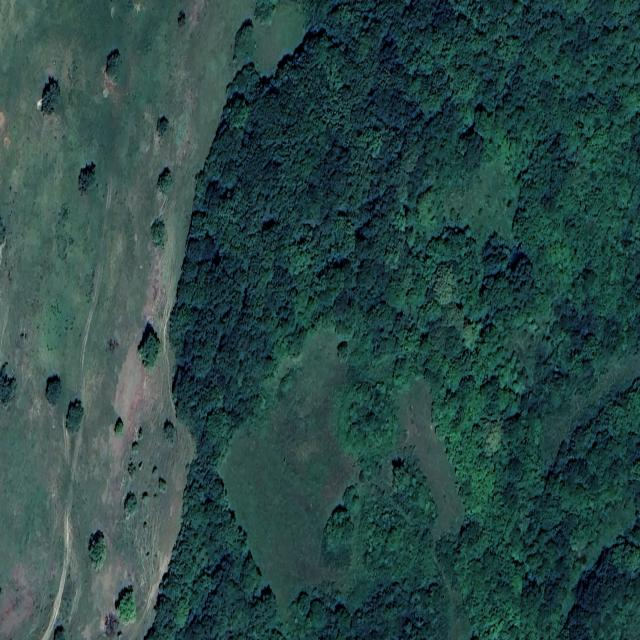grass: (125, 0, 309, 639), (225, 334, 355, 605), (398, 388, 461, 552), (546, 350, 640, 455), (448, 165, 511, 234)
tree: (146, 0, 640, 639), (211, 328, 358, 611), (436, 153, 529, 352), (125, 424, 174, 519), (139, 326, 160, 370), (88, 532, 106, 568), (39, 79, 59, 110), (44, 376, 64, 407), (77, 162, 97, 192), (0, 366, 13, 410), (116, 590, 133, 620), (151, 218, 167, 248), (103, 49, 120, 76), (158, 169, 174, 193), (67, 403, 82, 427), (156, 116, 171, 136), (118, 418, 124, 431), (54, 628, 61, 639), (176, 17, 183, 27)
